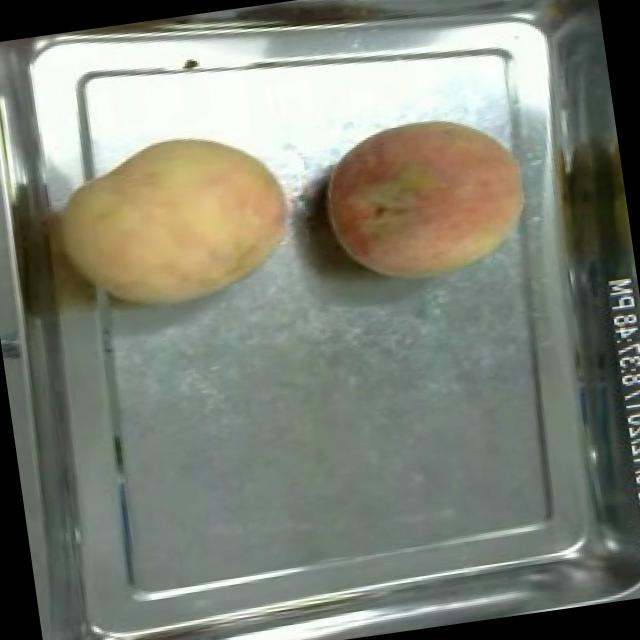Fruit: (43, 113, 307, 333), (306, 98, 546, 302)
